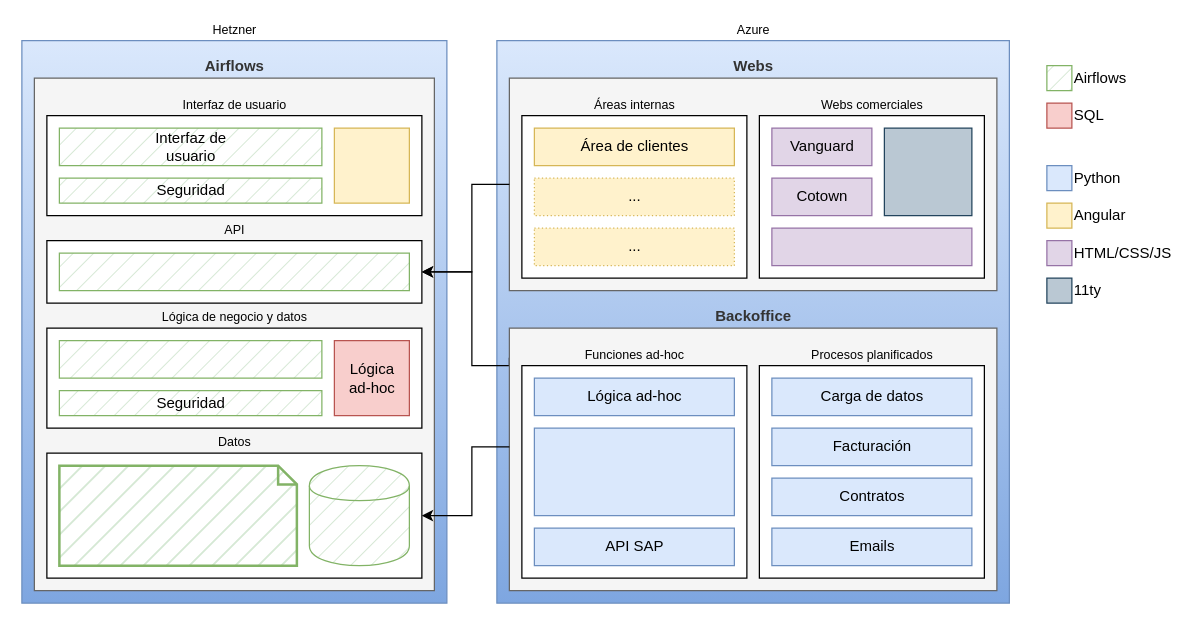
This 1194x625 diagram has some shape labels left out. Here are the shapes that lost their labels. From the top down, the centre of each, then its label:
At (x=371, y=165): "Interfaz ad-hoc".
At (x=927, y=171): "Generador".
At (x=871, y=246): "Sistema de reservas (común)".
At (x=233, y=271): "API GraphQL".
At (x=190, y=358): "Acceso a datos".
At (x=633, y=471): "Informes".
At (x=178, y=515): "Modelo".
At (x=358, y=515): "Base de datos".
